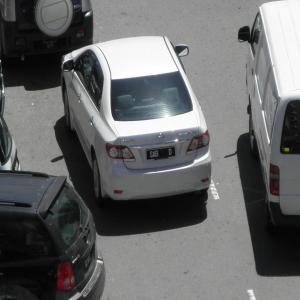Vehicle-registration-plate: (147, 149, 176, 159), (84, 253, 93, 270)
